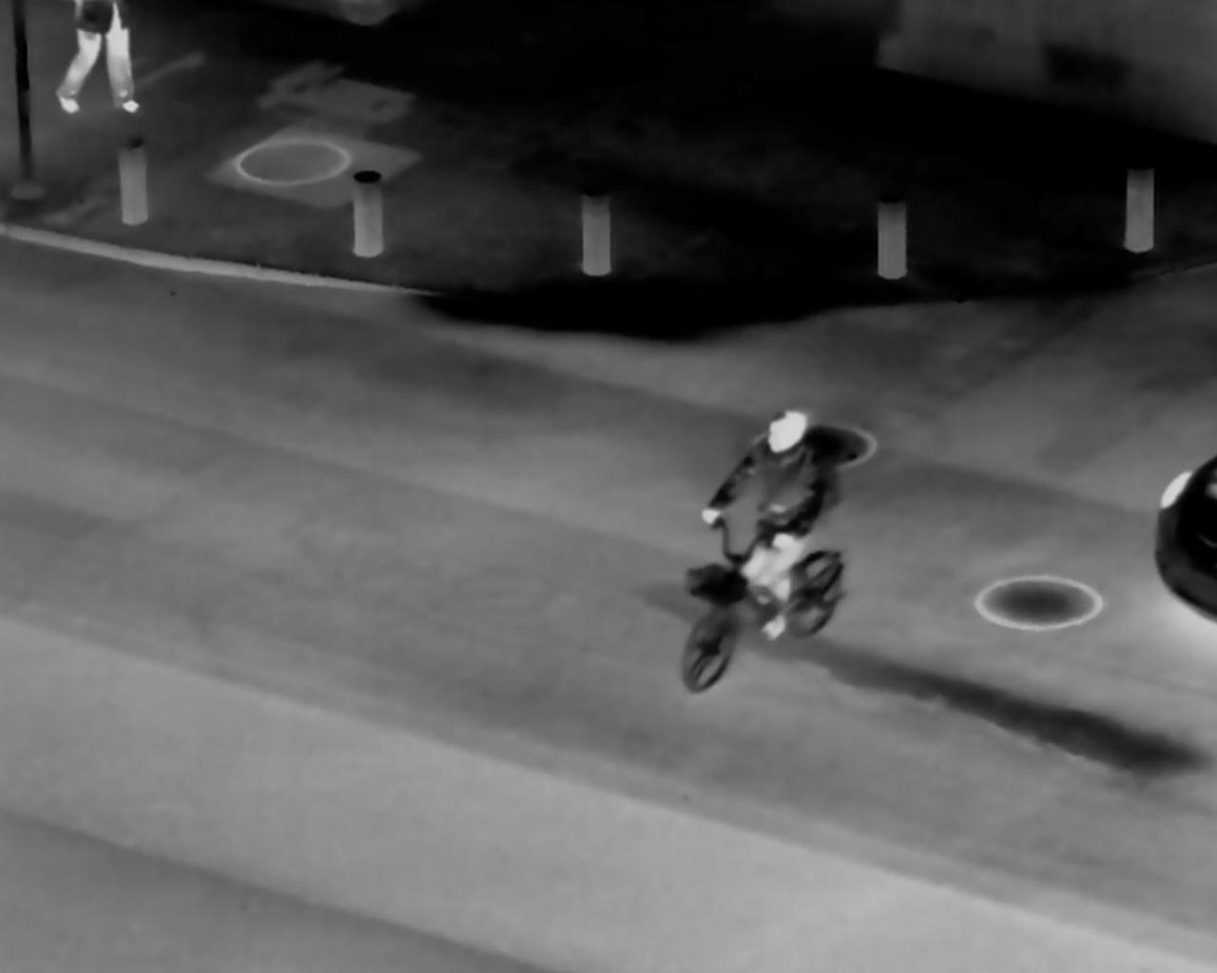person: (695, 394, 842, 640), (51, 4, 150, 122)
